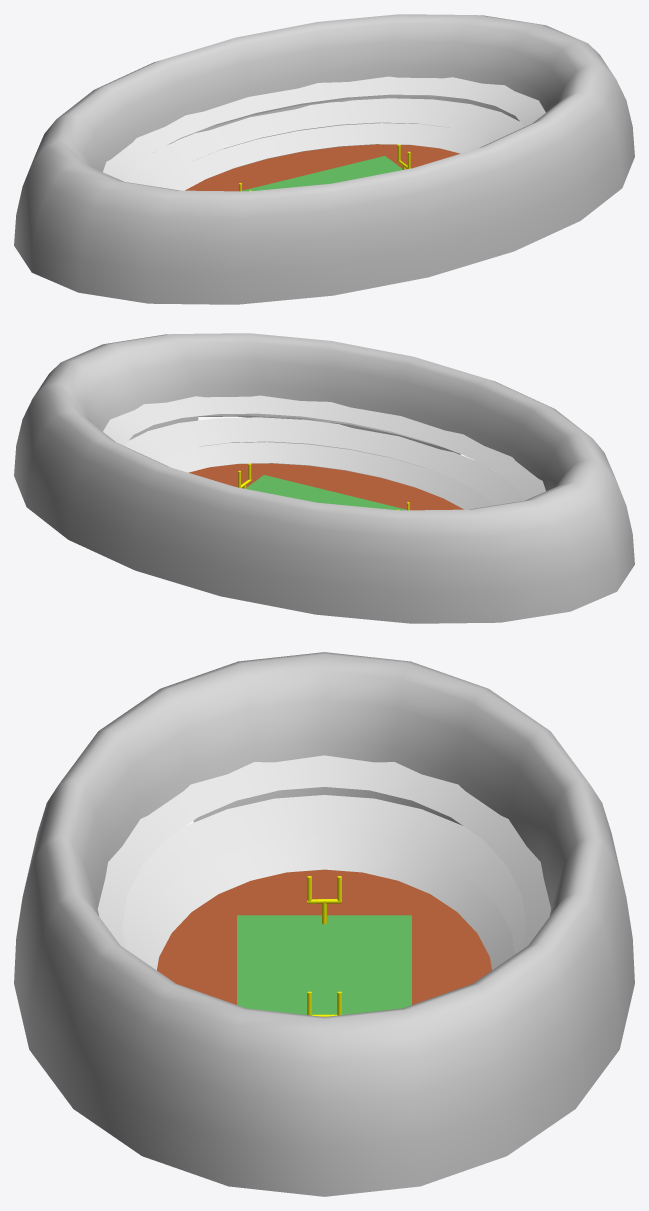
The model's file is stadium.fbx.
The picture shows the model from 3 angles, top to bottom: view 1: azimuth 30°, elevation 25°; view 2: azimuth 150°, elevation 25°; view 3: azimuth 270°, elevation 25°; orthographic projection. The views are drawn at different scales.
Visible parts, largest first — view 1: pPlane3; view 2: pPlane3; view 3: pPlane3.
Boxes of the visible parts, x1,y1,x2,y2 form: pPlane3: (14, 14, 634, 304); pPlane3: (14, 333, 634, 623); pPlane3: (14, 652, 634, 1196).
Bounding box in the file's own units: 2.51 × 0.4551 × 1.55.
